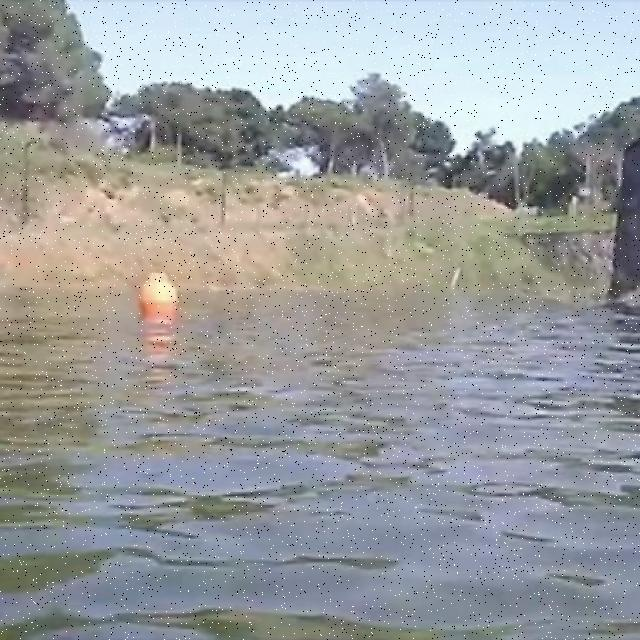buoy: (140, 271, 180, 321)
